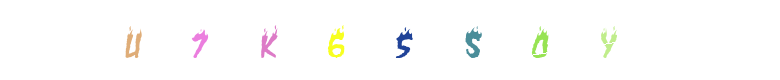0: (452, 0, 532, 80)
5: (363, 0, 443, 80)
6: (350, 0, 430, 80)
7: (207, 0, 287, 80)
K: (296, 0, 376, 80)
S: (426, 0, 506, 80)
U: (93, 0, 173, 80)
Y: (501, 0, 581, 80)
